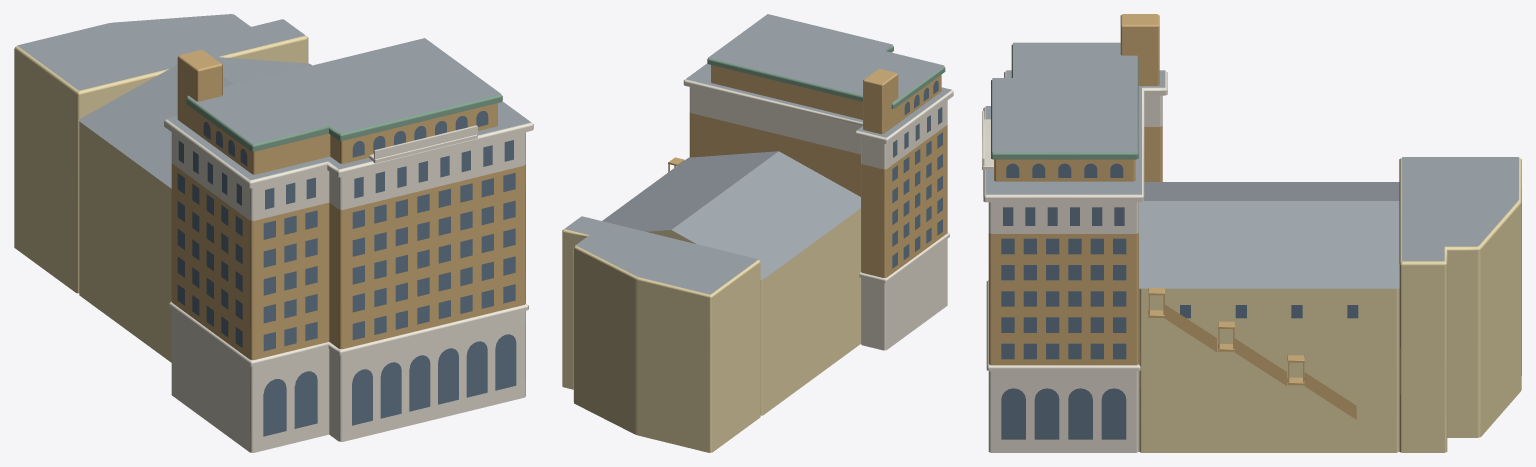
File: nyc-shore-theater.glb
3 views of the same model, side by side, from view 1: azimuth 30°, elevation 25°; view 2: azimuth 150°, elevation 25°; view 3: azimuth 270°, elevation 25° (orthographic). The views are drawn at different scales.
Visible parts, largest first — view 1: Shore Theater; view 2: Shore Theater; view 3: Shore Theater.
Part boxes in pixels (<box>): Shore Theater: <box>14,14,533,452</box>; Shore Theater: <box>562,14,953,452</box>; Shore Theater: <box>982,14,1521,452</box>.
Bounding box in the file's own units: 33.09 × 38 × 58.1.
